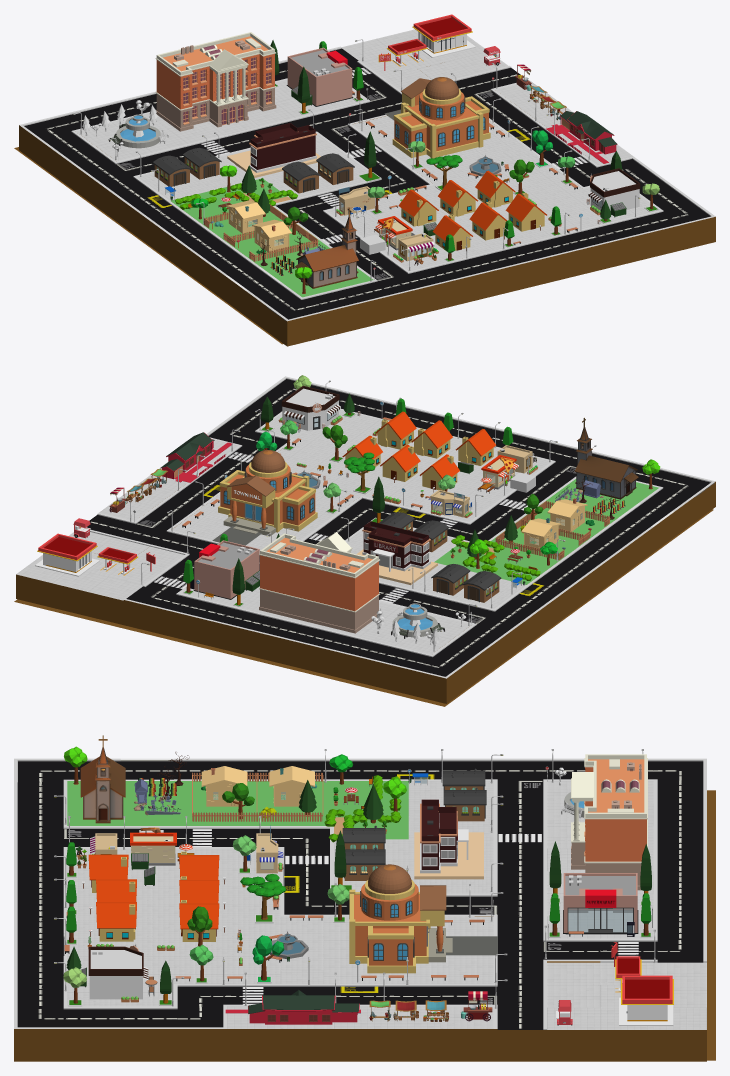
The model's file is 2nd-draft.fbx.
The picture shows the model from 3 angles, top to bottom: view 1: azimuth 30°, elevation 25°; view 2: azimuth 150°, elevation 25°; view 3: azimuth 270°, elevation 25°; orthographic projection. The views are drawn at different scales.
Parts seen in each view (by area): view 1: Low-poly university, SuperMarket, Earth.018, Small low poly Church, Plane.089, Plane.012, House_0, Plane.023, Plane.020, Plane.067, Plane.006, Plane.005 (+72 smaller); view 2: Low-poly university, Plane.069, SuperMarket, Plane.174, Small low poly Church, Plane.089, Earth.018, Plane.044, Plane.047, House_0, Plane.066, Plane.053 (+72 smaller); view 3: Low-poly university, Plane.069, Plane.089, SuperMarket, Earth.018, Plane.072, Plane.073, Plane.064, House_0, Plane.080, Plane.068, Small low poly Church (+131 smaller).
Boxes of the visible parts, x1,y1,x2,y2 form: Low-poly university: [155, 32, 276, 131]; SuperMarket: [286, 47, 353, 106]; Earth.018: [394, 91, 488, 151]; Small low poly Church: [295, 207, 358, 288]; Plane.089: [352, 116, 524, 172]; Plane.012: [266, 297, 322, 346]; House_0: [546, 111, 617, 163]; Plane.023: [588, 219, 644, 267]; Plane.020: [481, 245, 537, 293]; Plane.067: [624, 210, 680, 259]; Plane.006: [338, 280, 394, 328]; Plane.005: [302, 289, 358, 337]; Low-poly university: [259, 532, 380, 633]; Plane.069: [16, 574, 178, 633]; SuperMarket: [193, 540, 259, 599]; Plane.174: [14, 509, 713, 706]; Small low poly Church: [574, 417, 638, 499]; Plane.089: [171, 494, 344, 551]; Earth.018: [220, 465, 315, 525]; Plane.044: [413, 656, 467, 703]; Plane.047: [374, 646, 433, 695]; House_0: [160, 432, 231, 482]; Plane.066: [159, 593, 215, 642]; Plane.053: [195, 602, 251, 651]; Low-poly university: [571, 754, 647, 890]; Plane.069: [547, 938, 706, 1061]; Plane.089: [323, 916, 493, 983]; SuperMarket: [563, 873, 638, 934]; Earth.018: [354, 884, 426, 965]; Plane.072: [63, 1006, 120, 1061]; Plane.073: [120, 1006, 177, 1061]; Plane.064: [493, 1006, 546, 1061]; House_0: [225, 990, 360, 1024]; Plane.080: [177, 1006, 227, 1061]; Plane.068: [14, 1006, 63, 1061]; Small low poly Church: [80, 735, 125, 823].
Size of the model in its own units: 5276 by 1097 by 5768.
